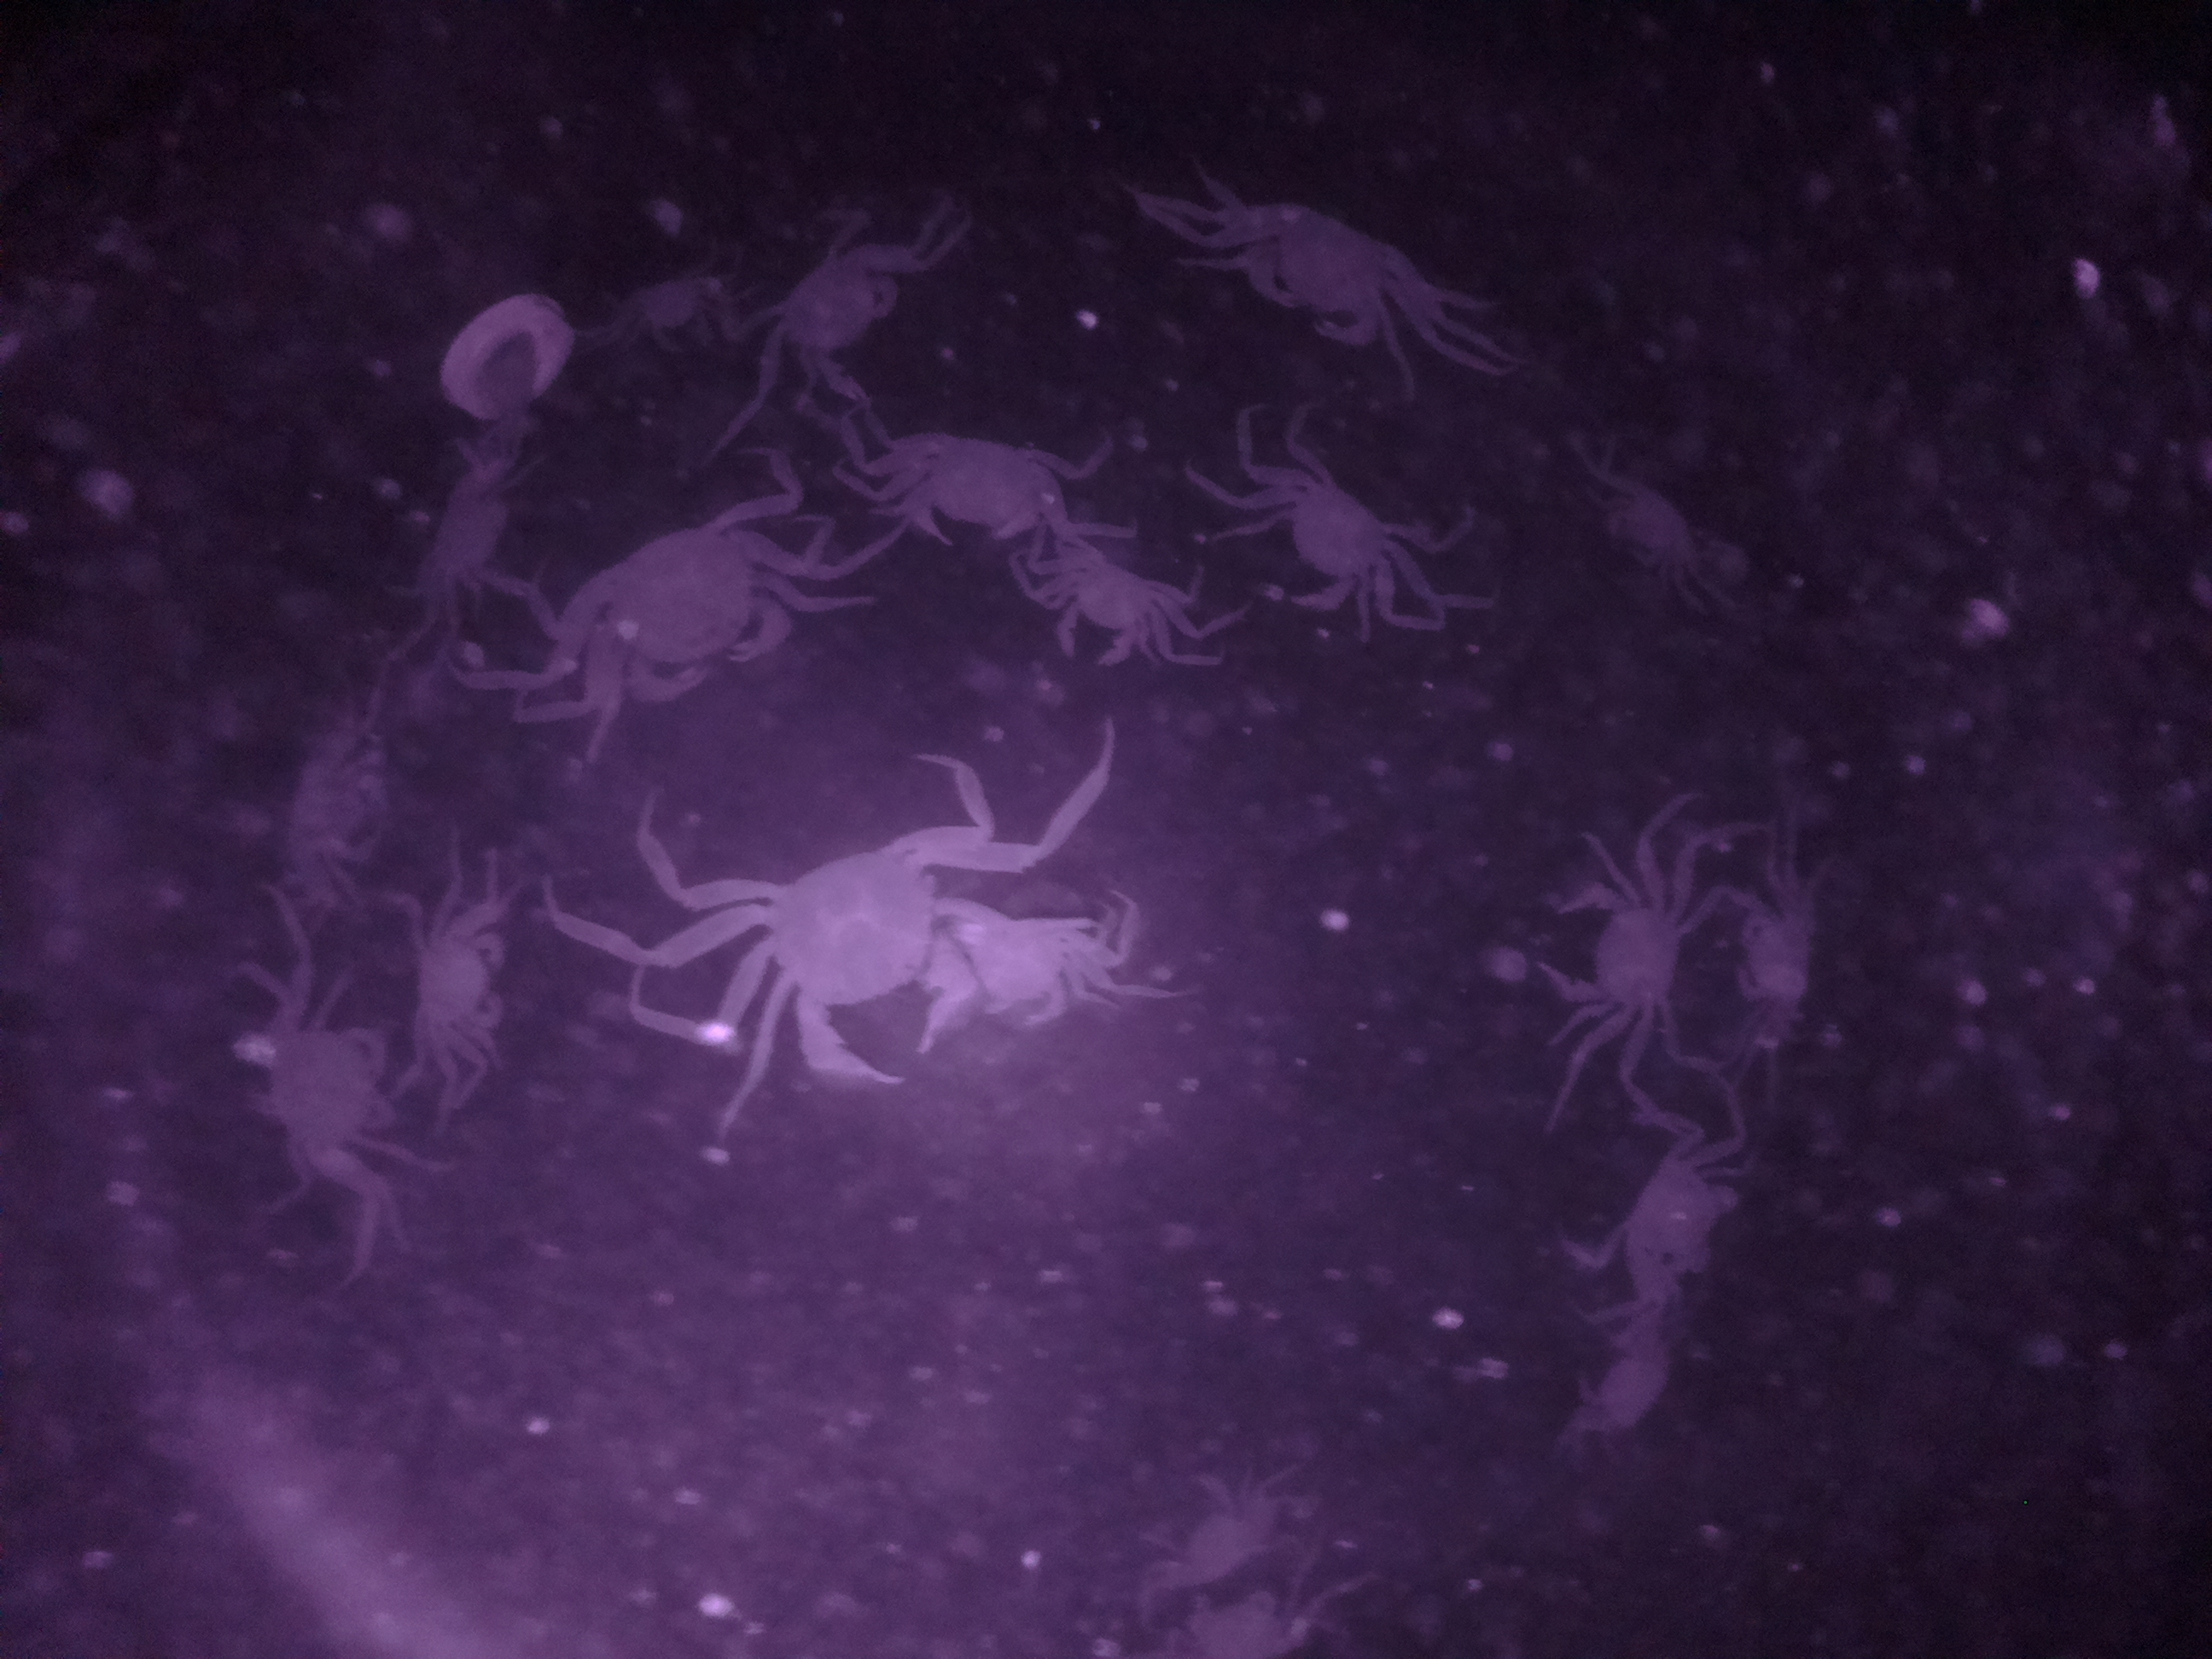Crab: (738, 807, 982, 1100), (571, 493, 819, 744), (239, 960, 413, 1206), (1214, 186, 1446, 359), (1526, 863, 1712, 1049), (1242, 443, 1409, 631), (1594, 1127, 1747, 1314), (867, 413, 1069, 554), (756, 218, 921, 380), (401, 877, 524, 1066), (1029, 538, 1176, 688)
